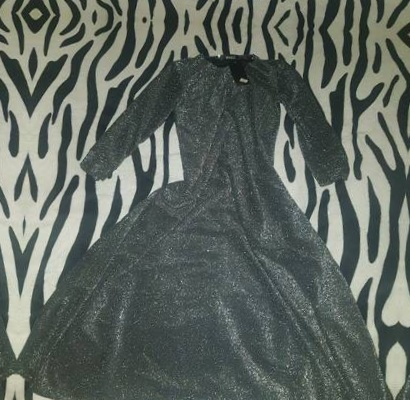Dress: (16, 32, 406, 400), (0, 11, 32, 400), (38, 0, 410, 16), (401, 53, 410, 400)
